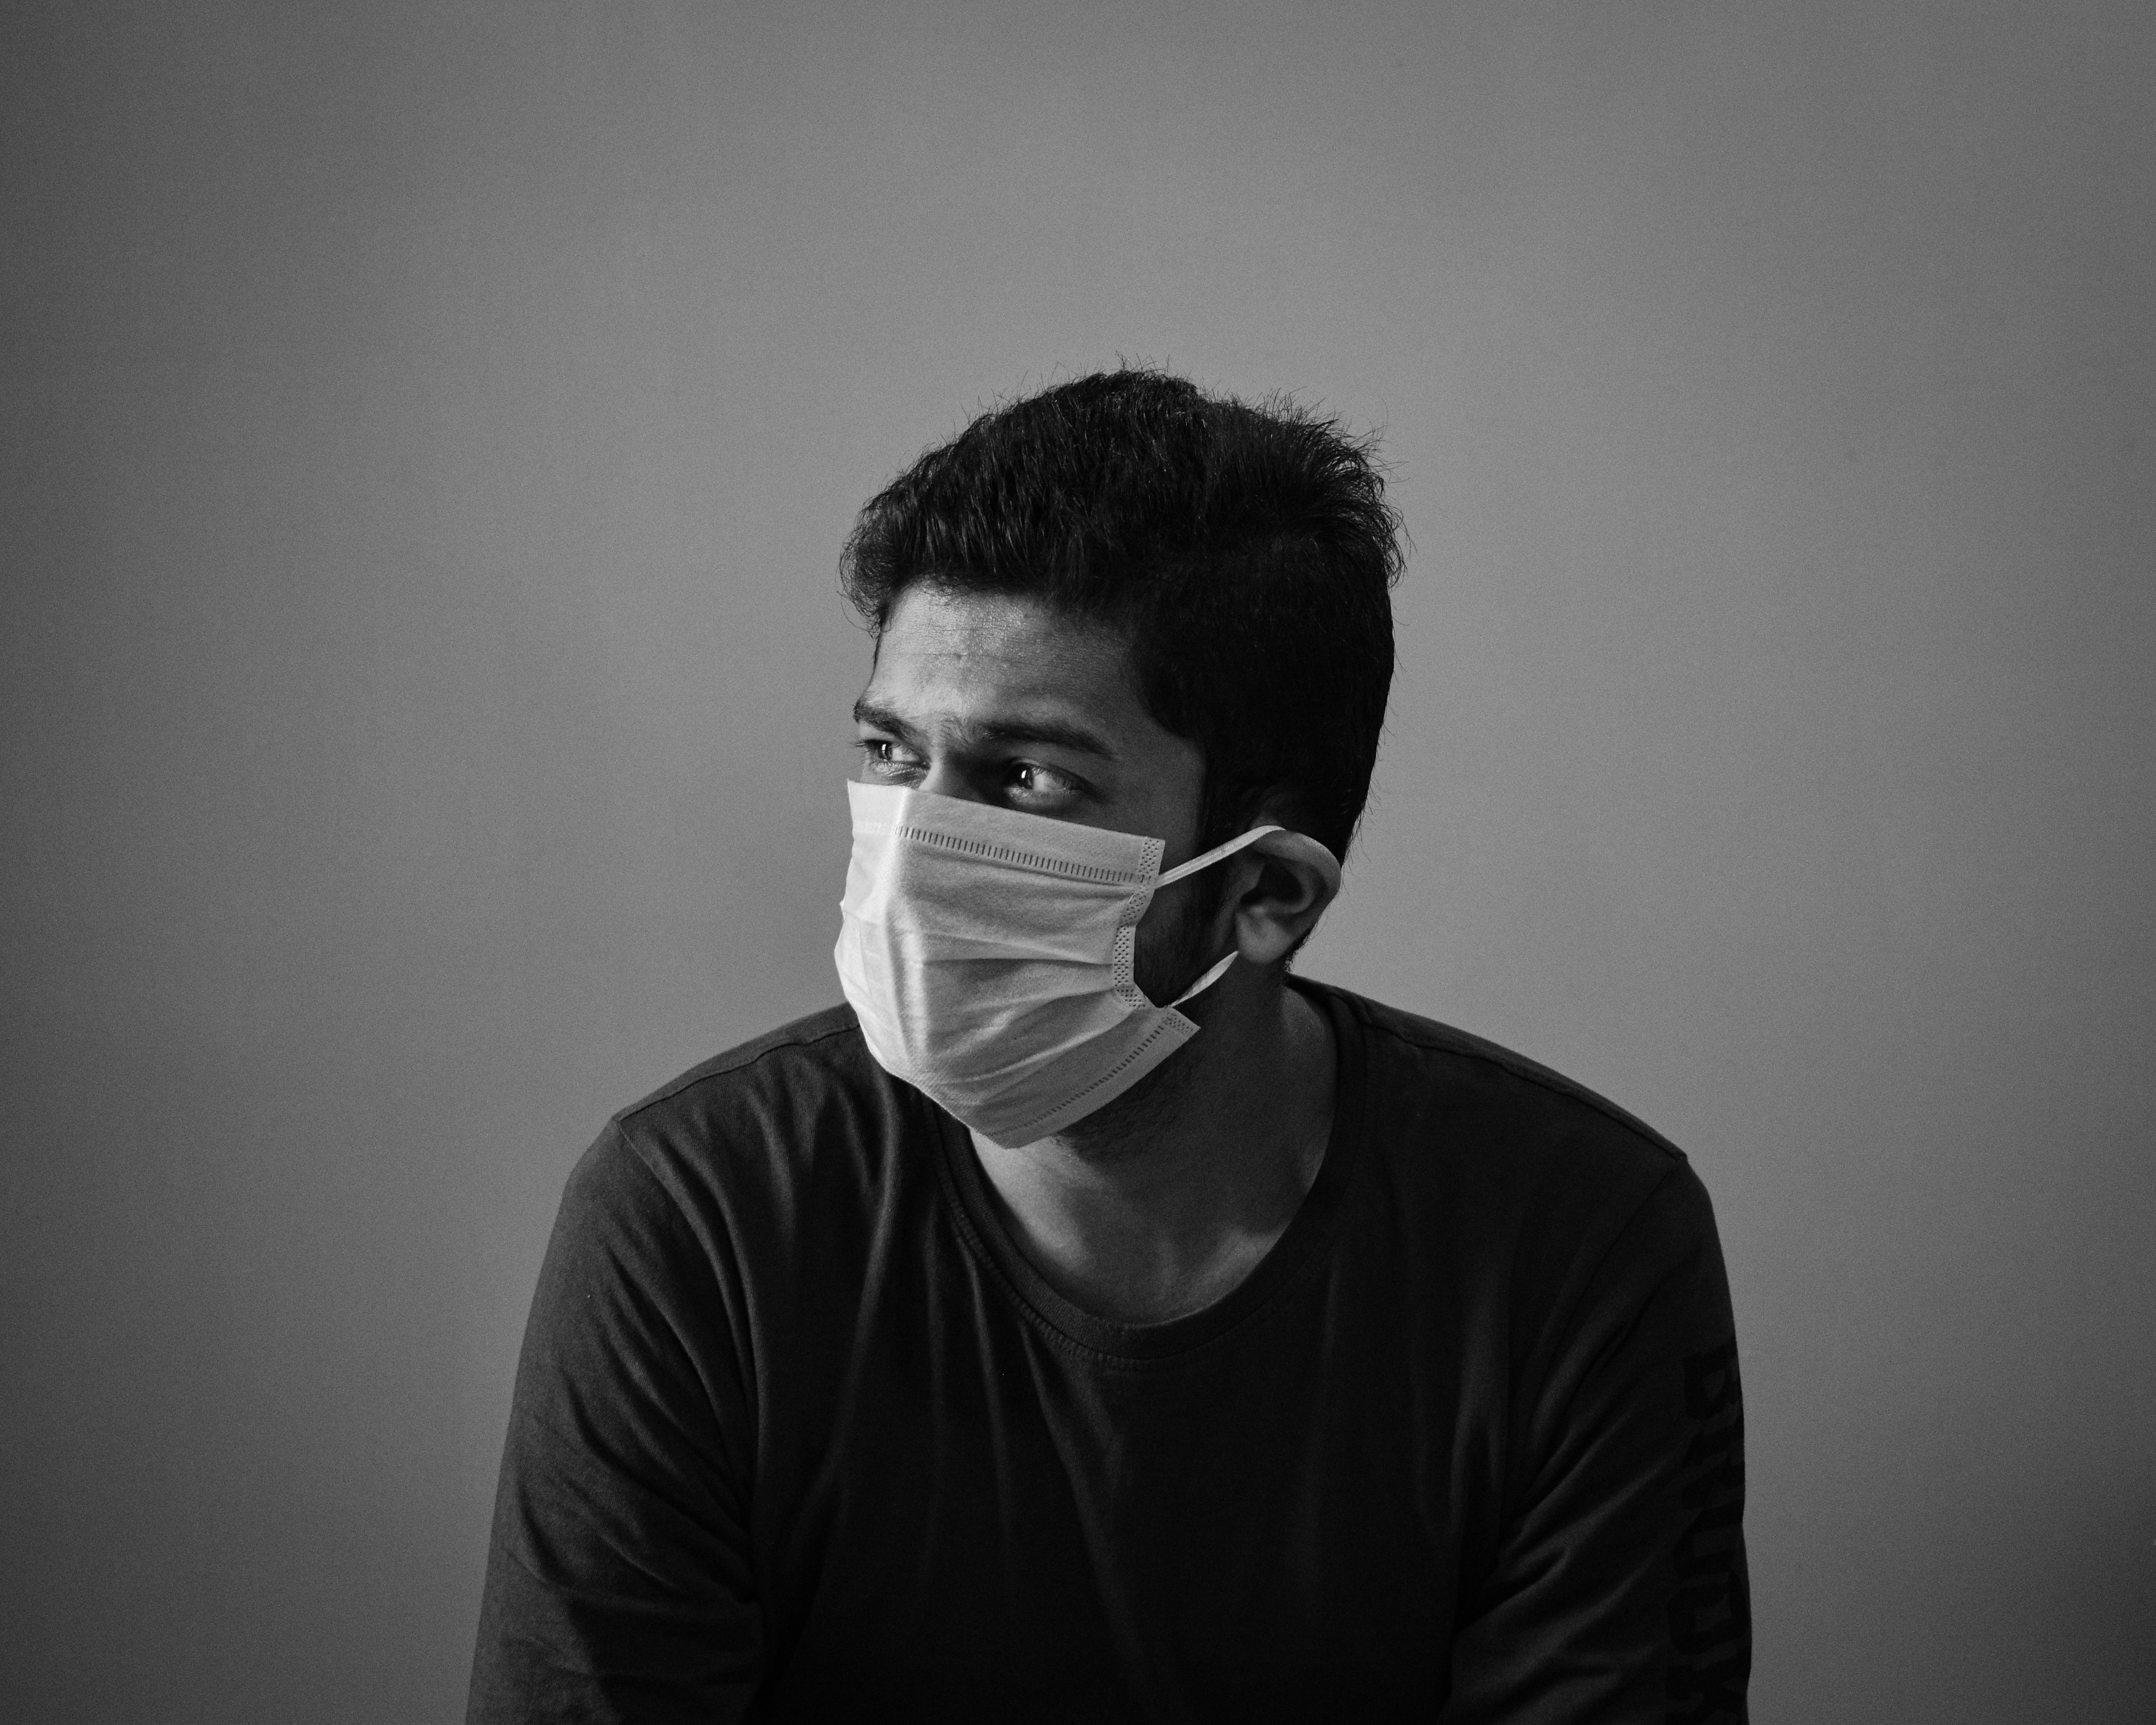mask: (831, 768, 1236, 1148)
person: (441, 367, 1748, 1725)
